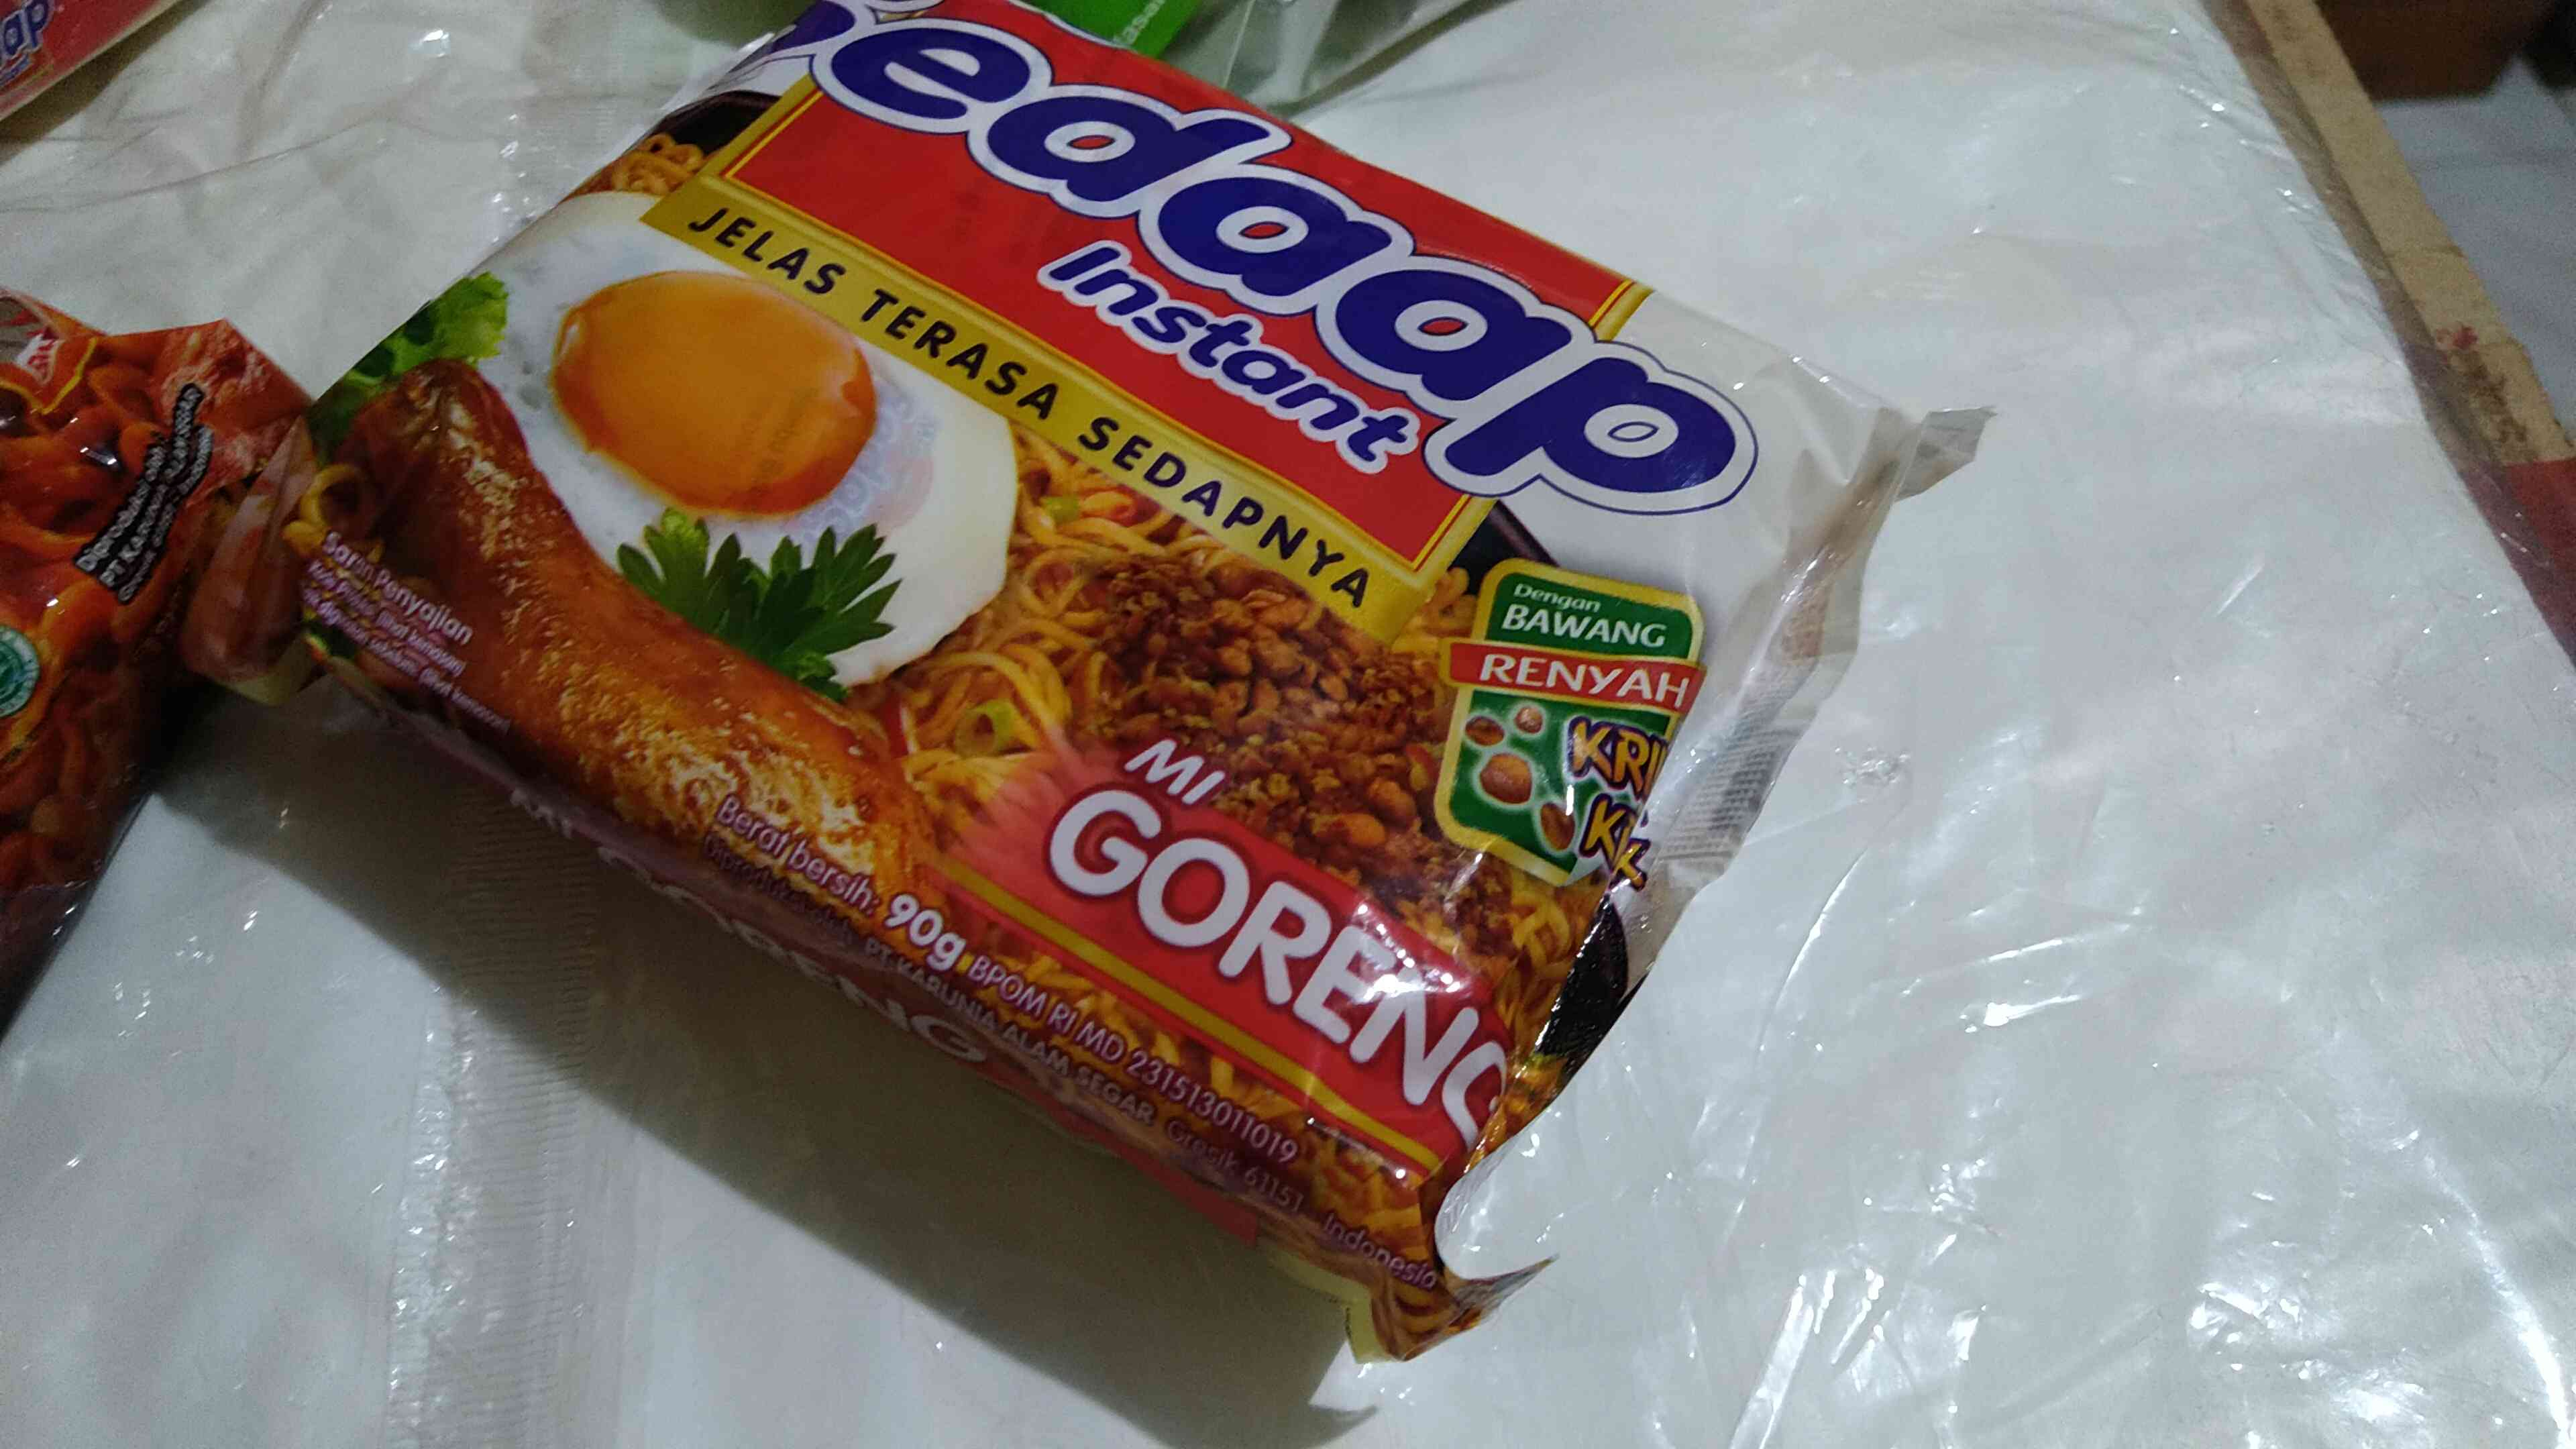sedaap goreng: (271, 30, 1936, 1191)
